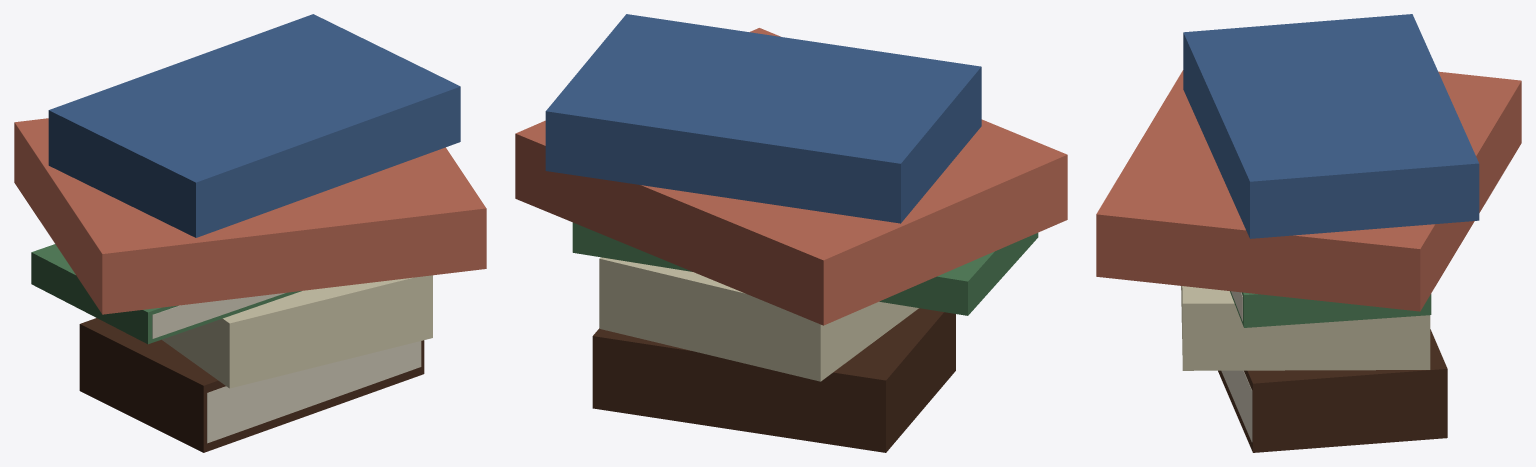
The model's file is book-stack-25.glb.
The picture shows the model from 3 angles, left to right: view 1: azimuth 30°, elevation 25°; view 2: azimuth 150°, elevation 25°; view 3: azimuth 270°, elevation 25°; orthographic projection. The views are drawn at different scales.
Parts seen in each view (by area): view 1: book_stack_25; view 2: book_stack_25; view 3: book_stack_25.
Part boxes in pixels (x1=…): book_stack_25: x1=14, y1=14, x2=486, y2=452; book_stack_25: x1=515, y1=14, x2=1067, y2=452; book_stack_25: x1=1096, y1=14, x2=1521, y2=452.
Bounding box in the file's own units: 0.3084 × 0.2042 × 0.2726.
